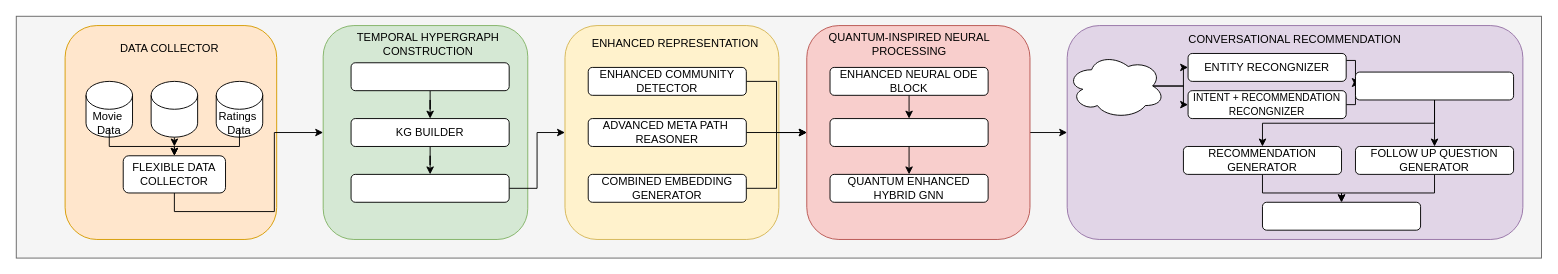
The diagram is 1558 pixels wide and 274 high, and some of its shapes have lost their labels. The centre of each missing label's shape, as x and y in pixels:
"ENHANCED QUANTUM BLOCK" belongs at (908,132).
"GRAPH REASONER" belongs at (1434,85).
"MUJHE DDLJ JAISE DRAMA FILM PASAND HAIN" belongs at (1115,86).
"RESPONSE GENERATOR" belongs at (1341,215).
"TEMPORAL HYPERGRAPH" belongs at (429,187).
"TEXTUAL EMBEDDING" belongs at (429,76).
"User Data" belongs at (174,108).
